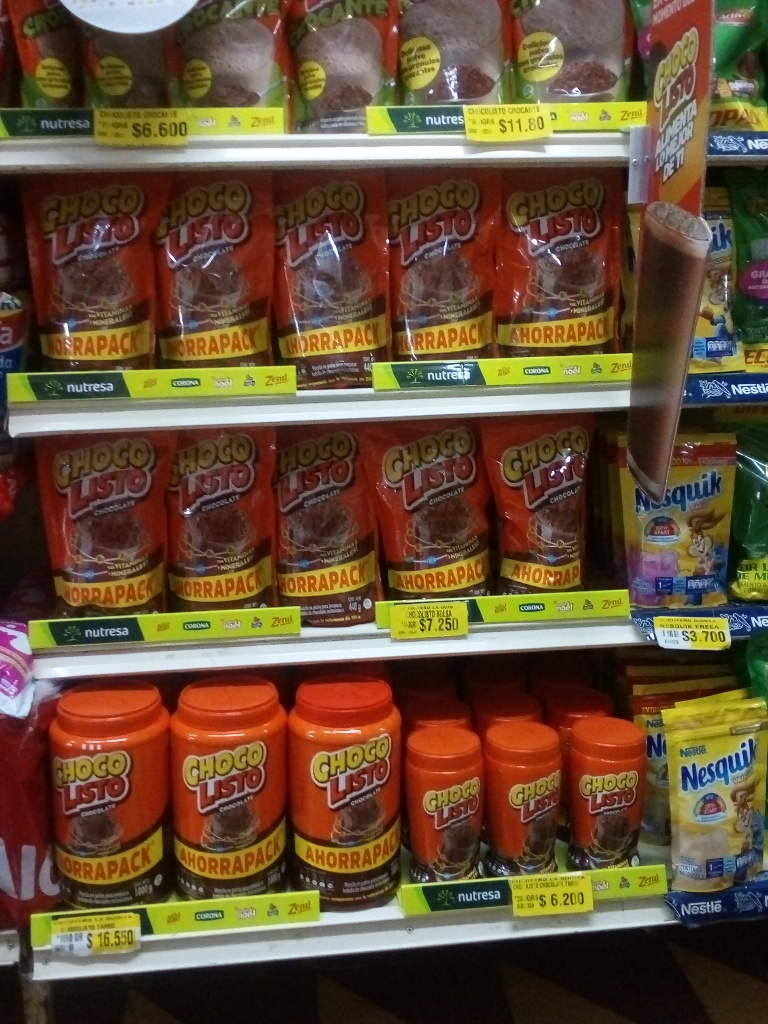COL0170103DYP44000: (24, 177, 150, 369)
COL0170103TRR00100: (49, 683, 172, 905)
COL0170306DYP20000: (661, 699, 767, 891)
